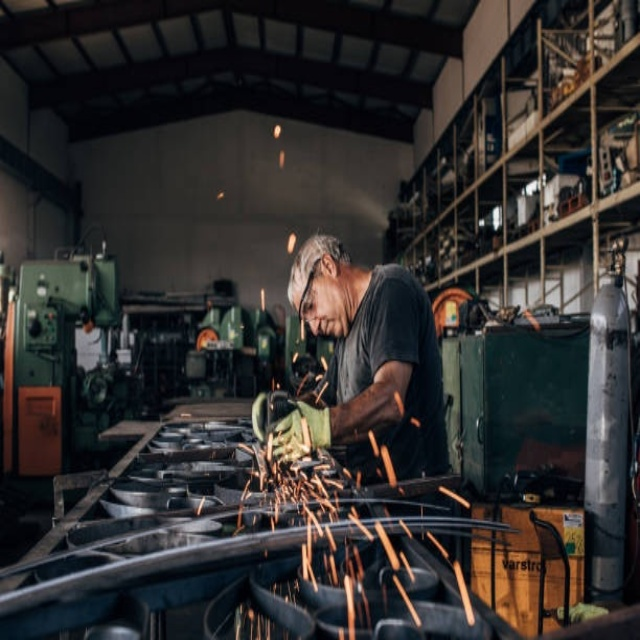Gafas: (299, 254, 330, 322)
Guantes: (267, 391, 333, 466)
Sin_mascara: (315, 311, 342, 340)
